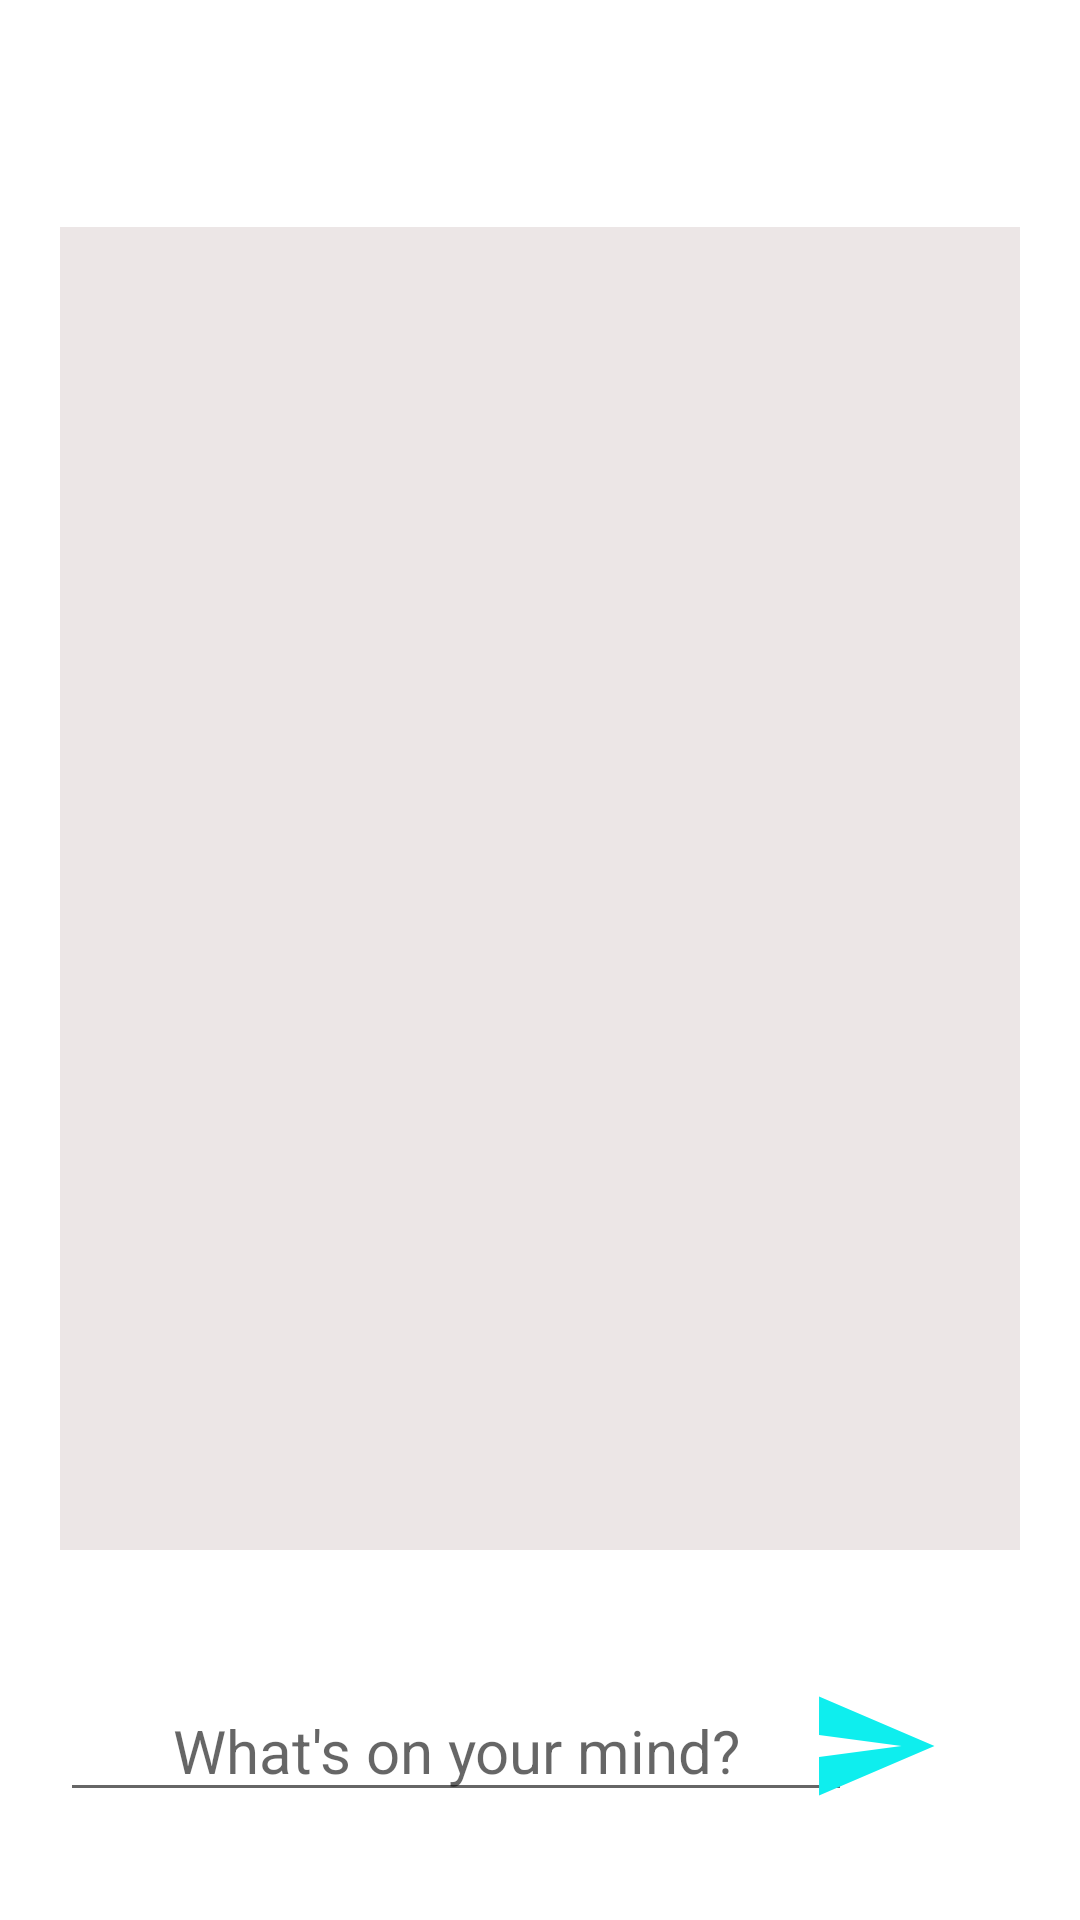

Icons on this 1080*1920 Android screen, each with the point to tap as point (x, y):
send: point (837, 1746)
